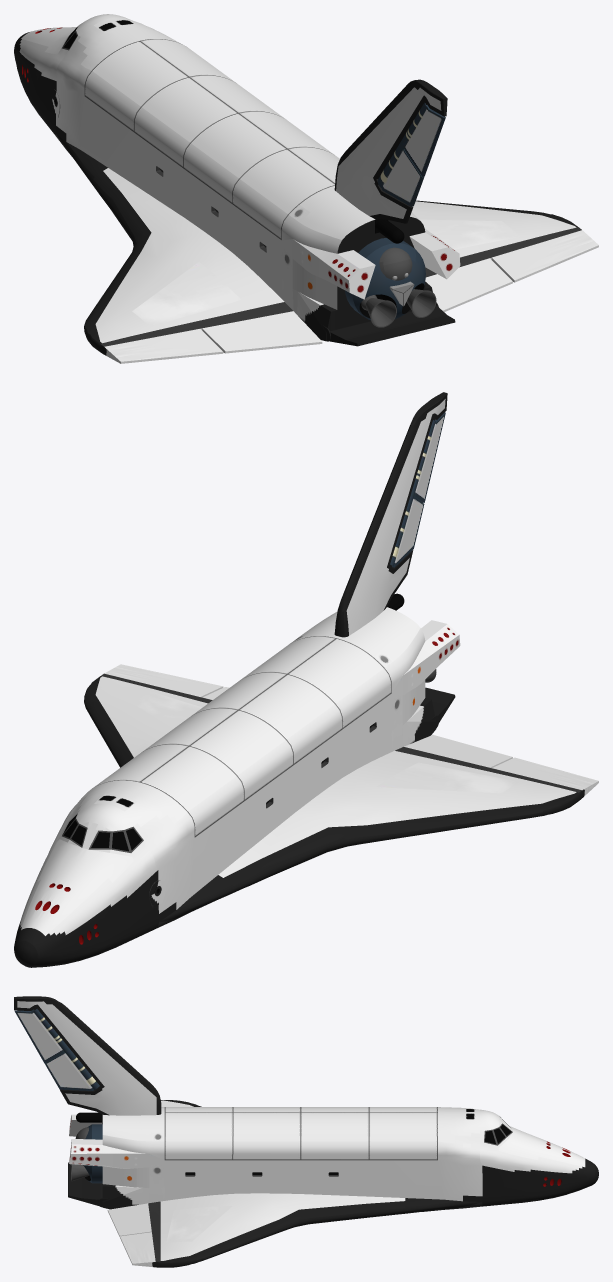
Rendered from 航天飞机.glb.
The picture shows the model from 3 angles, top to bottom: view 1: azimuth 30°, elevation 25°; view 2: azimuth 150°, elevation 25°; view 3: azimuth 270°, elevation 25°; orthographic projection. The views are drawn at different scales.
Parts seen in each view (by area): view 1: Obj3d66-13851434-3-957; view 2: Obj3d66-13851434-3-957; view 3: Obj3d66-13851434-3-957.
Part boxes in pixels (x1,y1,x2,y2): Obj3d66-13851434-3-957: (14, 14, 598, 363); Obj3d66-13851434-3-957: (14, 392, 598, 967); Obj3d66-13851434-3-957: (14, 996, 598, 1267).
Size of the model in its own units: 1.34 by 0.7881 by 2.04.
Materials: 1 (1 with a texture image).
